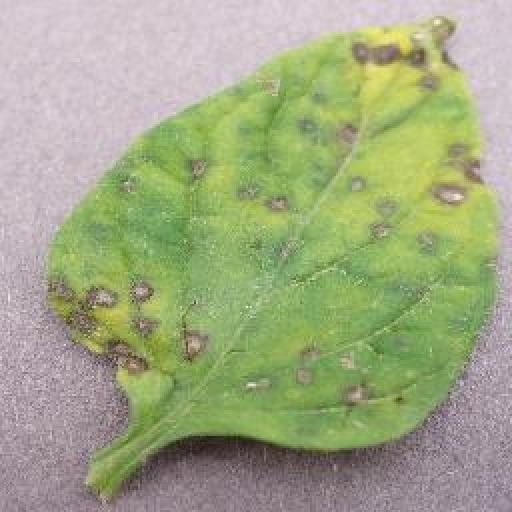disease_tomato: (45, 17, 500, 451)
